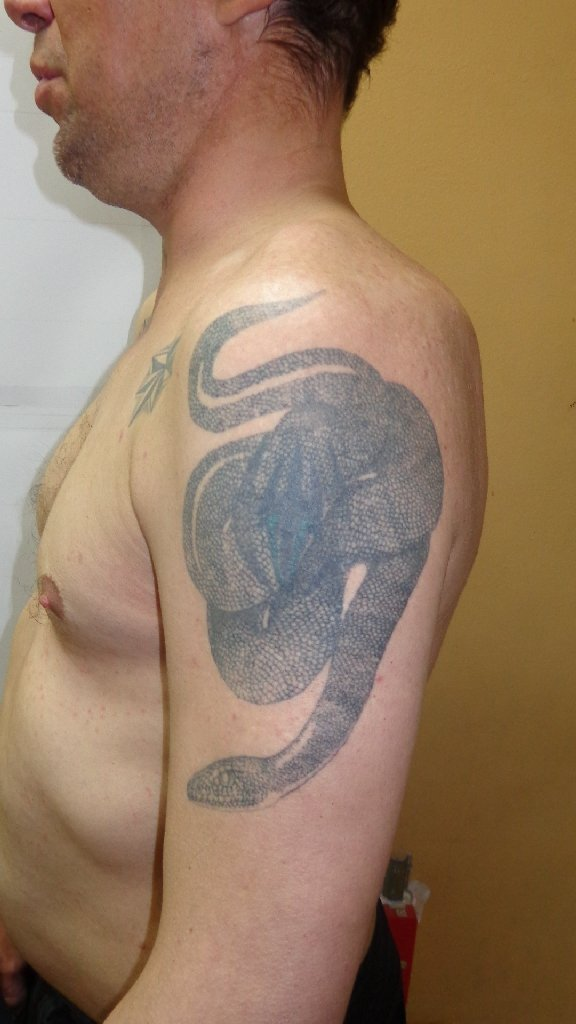tatu7_zmeya: (171, 284, 405, 849)
tatu9_krest: (119, 335, 174, 423)
